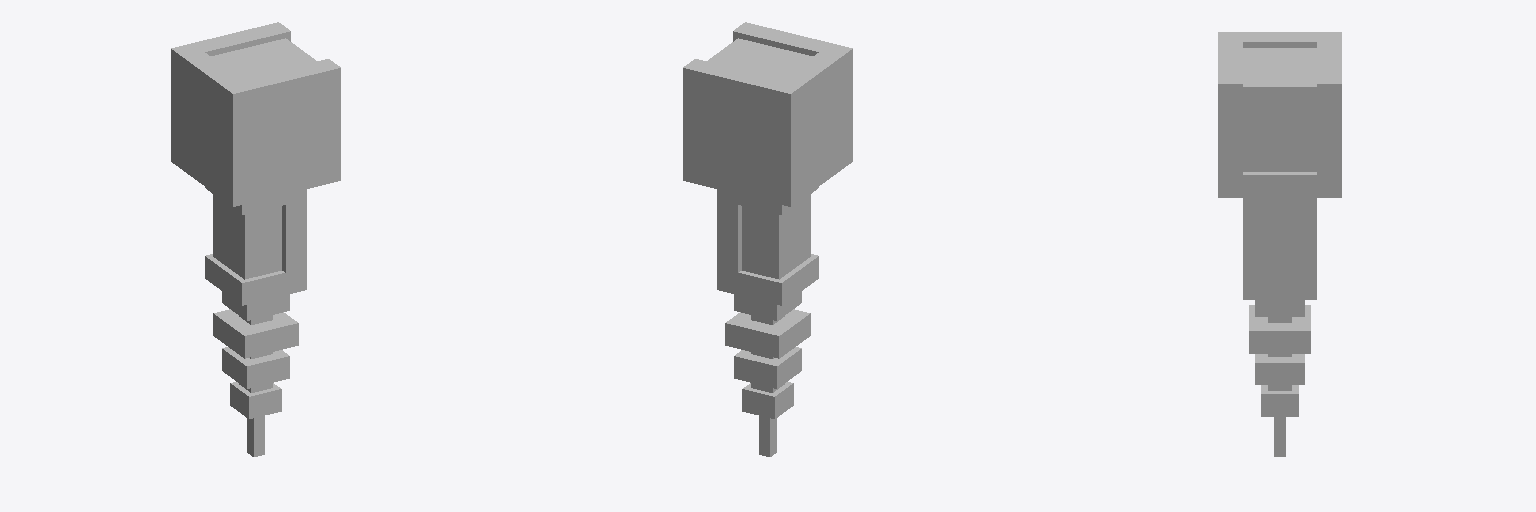
Rendered from arm_blaster_r.obj.
3 renders of one model, left to right at view 1: azimuth 30°, elevation 25°; view 2: azimuth 150°, elevation 25°; view 3: azimuth 270°, elevation 25°, orthographic.
Visible parts, largest first — view 1: ARM_RIGHT_BLASTER_Cube.045; view 2: ARM_RIGHT_BLASTER_Cube.045; view 3: ARM_RIGHT_BLASTER_Cube.045.
Boxes of the visible parts, box(x1,y1,x2,y2) form: ARM_RIGHT_BLASTER_Cube.045: box(171, 22, 340, 456); ARM_RIGHT_BLASTER_Cube.045: box(683, 22, 852, 456); ARM_RIGHT_BLASTER_Cube.045: box(1218, 32, 1341, 456).
Size of the model in its own units: 0.3125 by 1.09 by 0.3125.